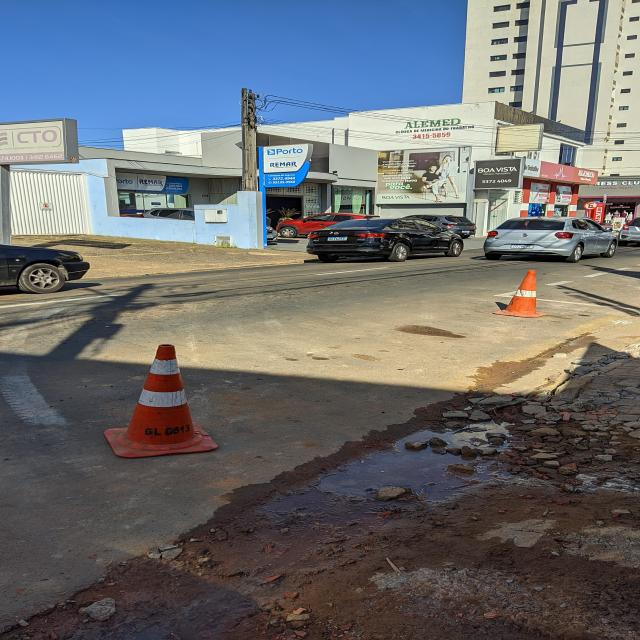cone: (99, 340, 222, 462), (489, 266, 551, 320)
